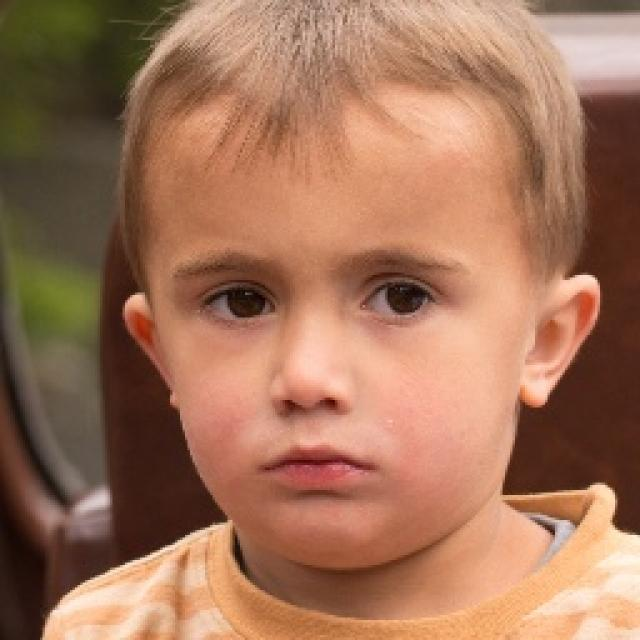earlobe: (518, 360, 552, 410)
eye: (353, 284, 440, 319), (196, 283, 276, 318)
nose: (274, 398, 349, 436)
wholeear: (518, 275, 600, 410), (122, 293, 181, 410)
